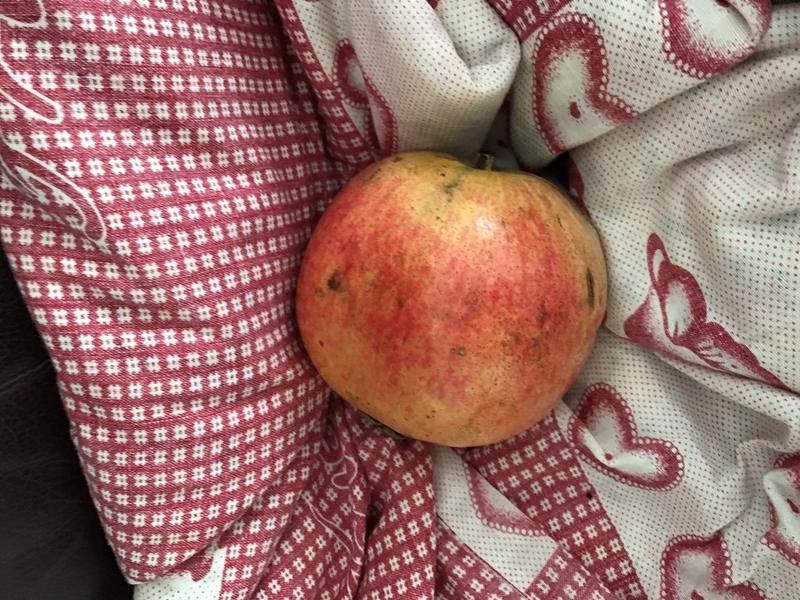pomegranate: (279, 133, 620, 460)
